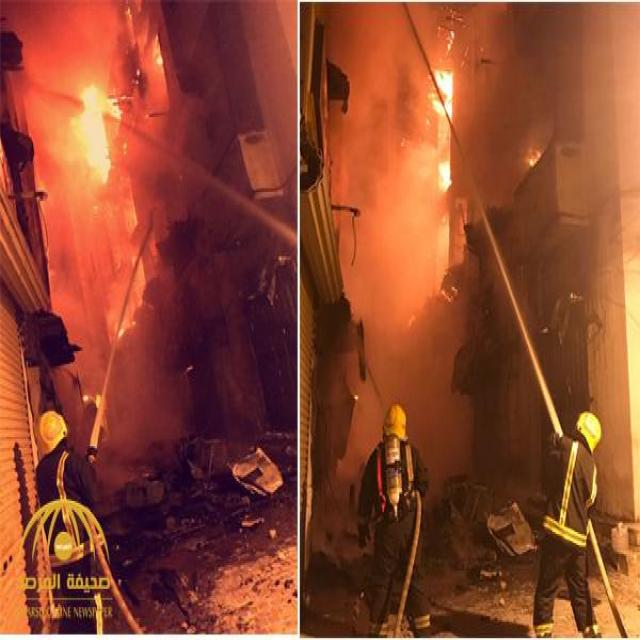Fire: (59, 76, 142, 203)
